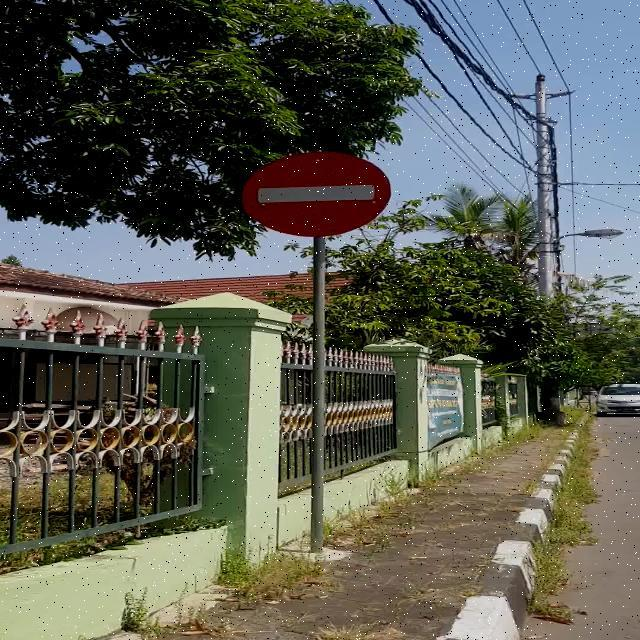Dilarang Masuk: (242, 151, 392, 237)
